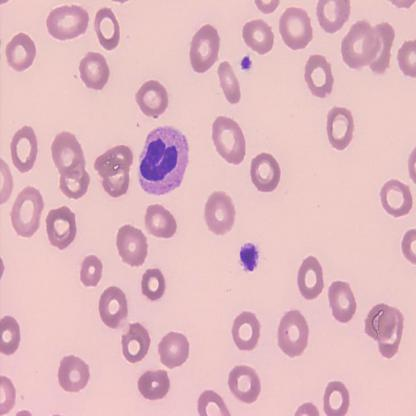Band Neutrophil: (136, 123, 190, 200)
